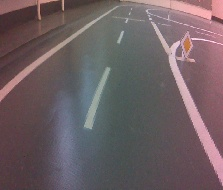priority road sign: (179, 29, 194, 59)
